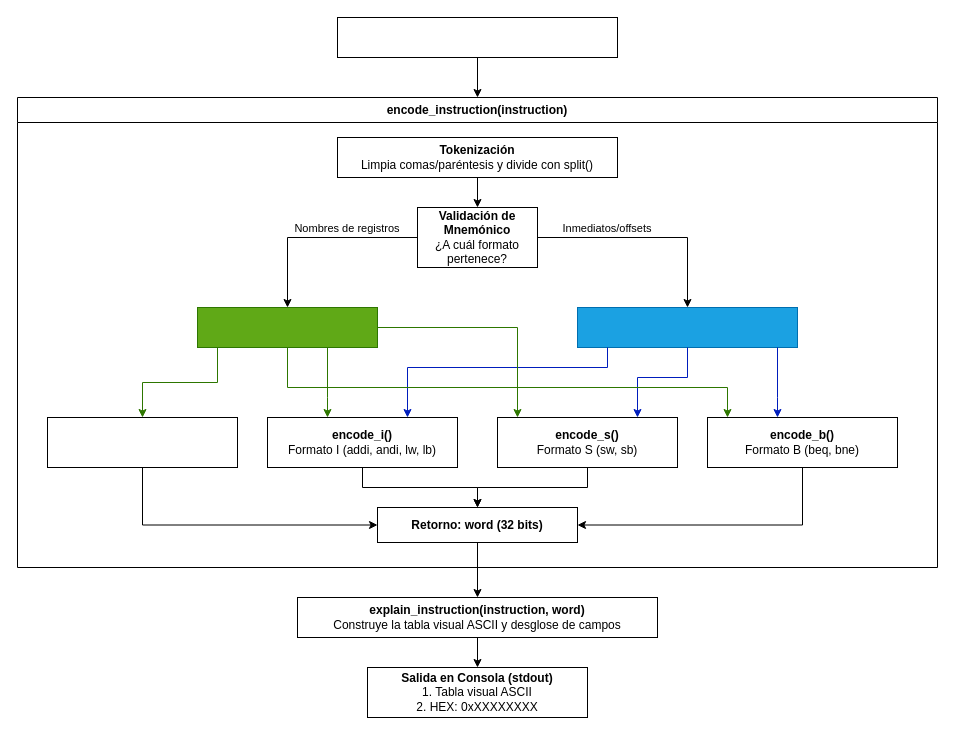
Some shapes in this 955 by 735 pixel diagram are drawn without their labels. The shapes that lost their labels are listed below. From the top down, each one's box as (x1, y1, x2, y2) in pixels, then its label:
(336, 16, 618, 58): main() Recibe la instrucción en texto
(196, 306, 378, 348): parse_register() Valida 'x' y rango [0..31]
(576, 306, 798, 348): parse_immediate() Convierte string a entero con signo
(46, 416, 238, 468): encode_r() Formato R (add, sub, and, or)
